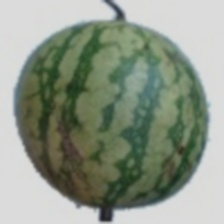watermelon: (0, 23, 199, 186)
